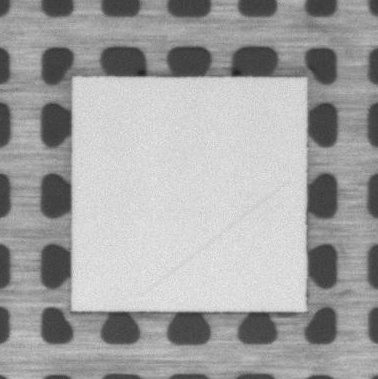DIE_CRACK: (142, 181, 288, 296)
